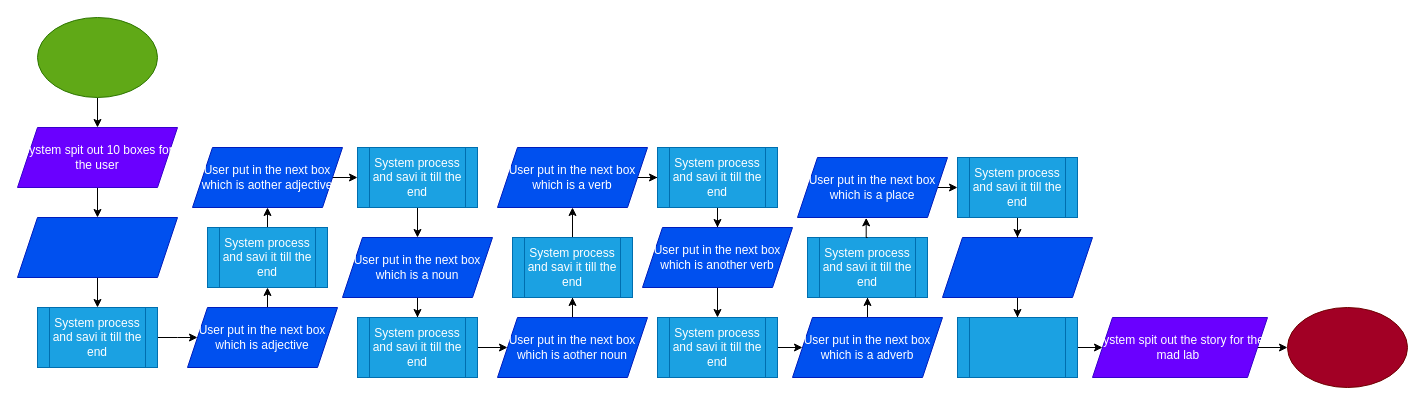
The diagram is 1425 pixels wide and 405 high, and some of its shapes have lost their labels. The box of each missing label's shape, as (x1, y1, x2, y2) in pixels:
End: (1286, 306, 1408, 388)
Start: (36, 16, 158, 98)
System puts everthing together: (956, 316, 1078, 378)
User put in the next box which is a emotion: (942, 236, 1092, 298)
User put the first box information which is name: (16, 216, 178, 278)
